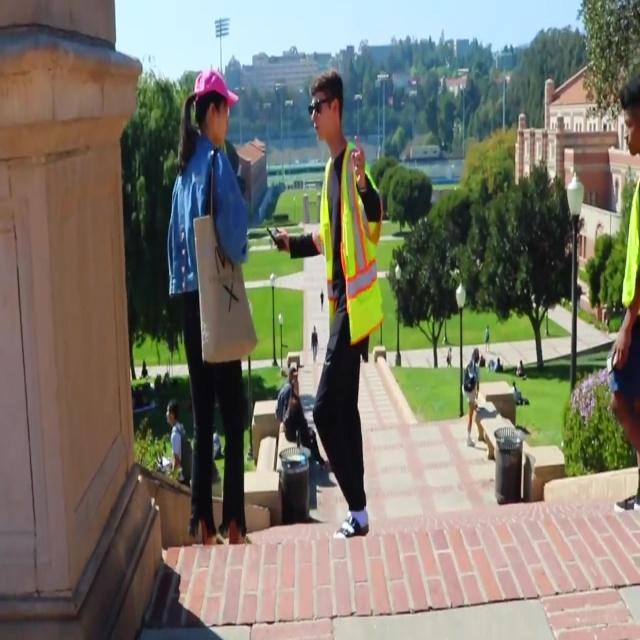vest: (313, 185, 385, 458)
